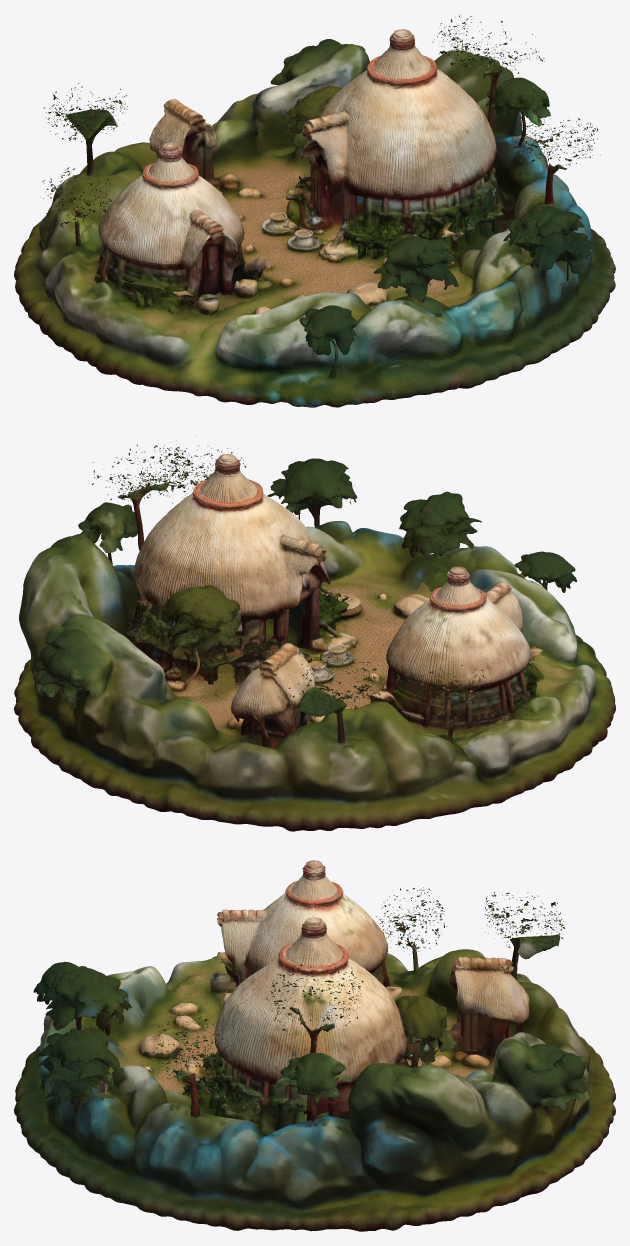
File: 1068182f-bee6-44a8-b837-d681a7205e98_optimized.glb
The picture shows the model from 3 angles, top to bottom: view 1: azimuth 30°, elevation 25°; view 2: azimuth 150°, elevation 25°; view 3: azimuth 270°, elevation 25°; orthographic projection.
Size of the model in its own units: 1.64 by 0.6982 by 1.64.
1 material, 1 textured.
